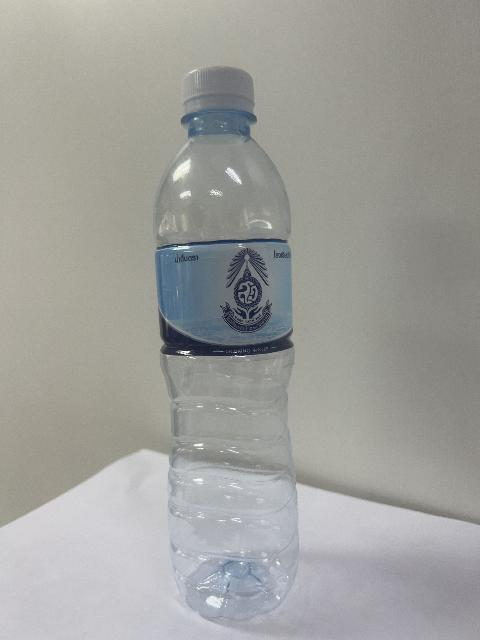bottle: (155, 67, 298, 619)
